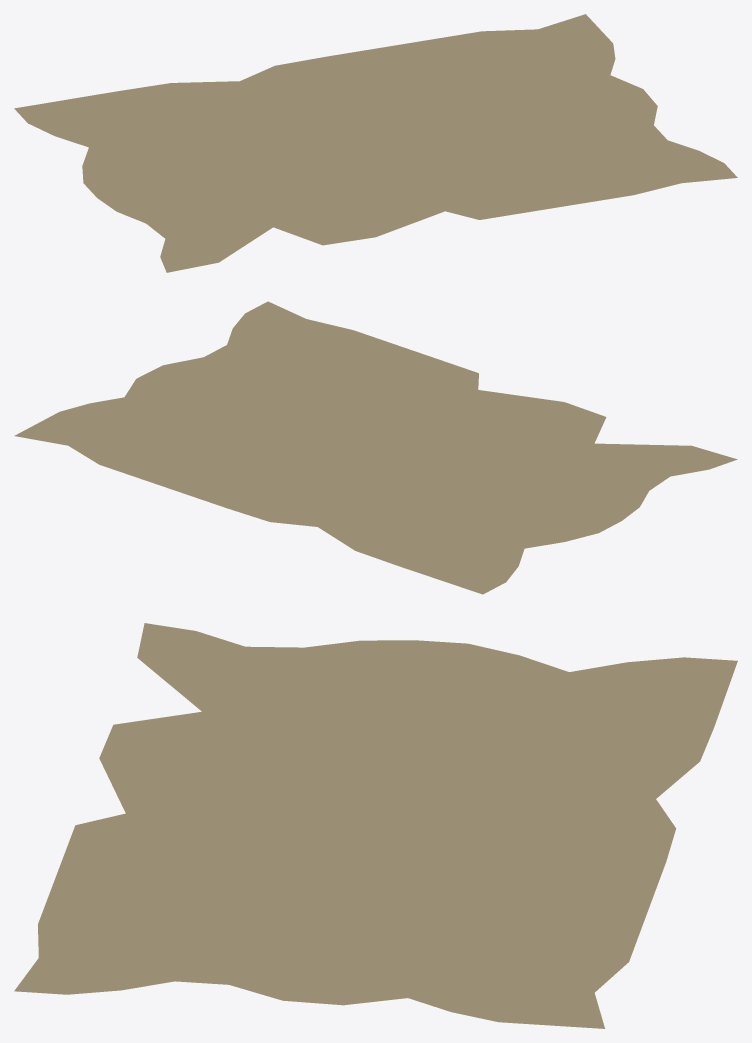
The model's file is CaptainQuarters_Map.fbx.
3 views of the same model, one above another, from view 1: azimuth 30°, elevation 25°; view 2: azimuth 150°, elevation 25°; view 3: azimuth 270°, elevation 25° (orthographic). The views are drawn at different scales.
Visible parts, largest first — view 1: Map; view 2: Map; view 3: Map.
Part boxes in pixels (x1=…): Map: x1=14, y1=14, x2=737, y2=272; Map: x1=14, y1=301, x2=737, y2=594; Map: x1=14, y1=623, x2=737, y2=1028.
Bounding box in the file's own units: 1.6 × 7.63e-08 × 1.21.
